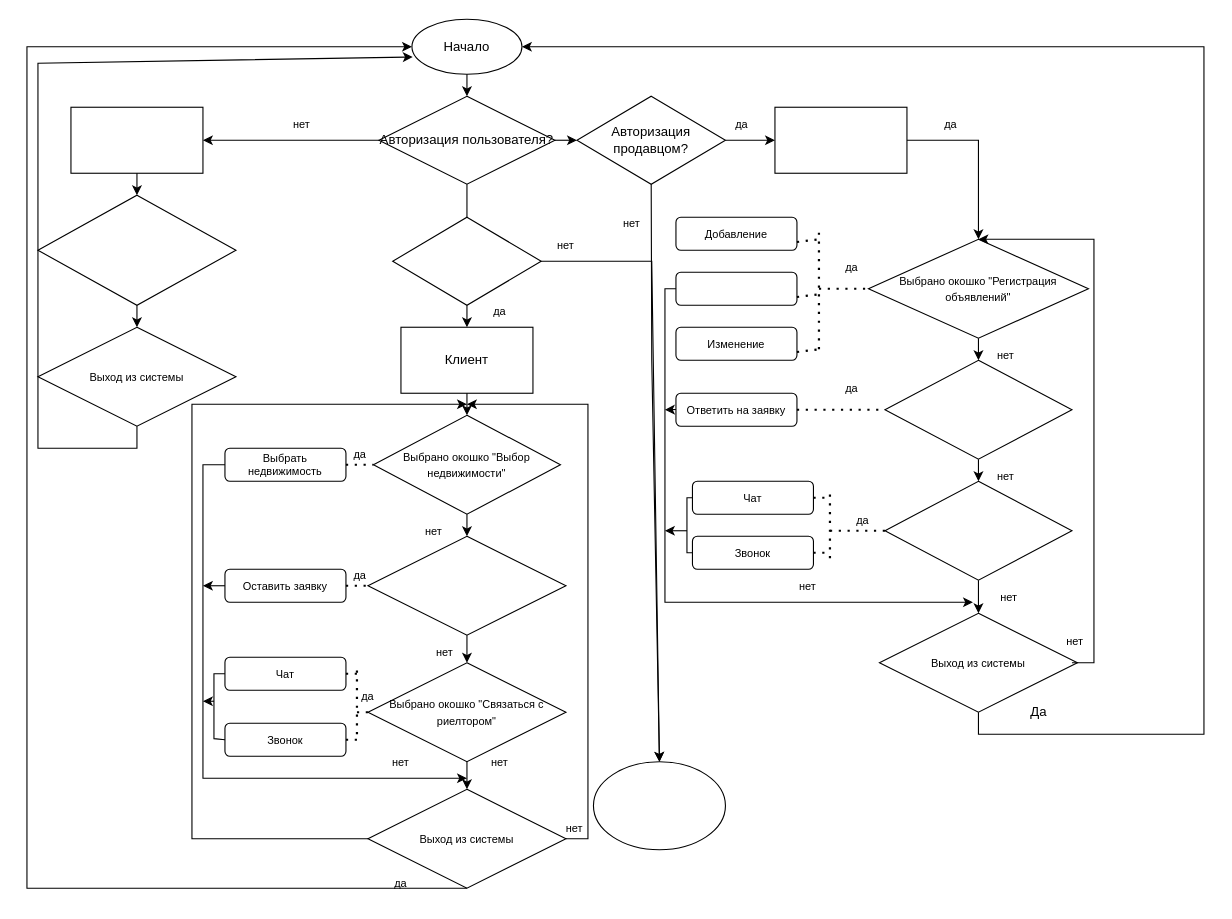
The diagram is 1232 pixels wide and 919 high, and some of its shapes have lost their labels. The centre of each missing label's shape, as x and y in pixels:
Авторизация клиентом?: point (466, 260)
Администратор: point (136, 139)
Выбрано окошко "Оставить заявку": point (466, 585)
Выбрано окошко "Ответ на заявку": point (978, 409)
Выбрано окошко "Связаться с клиентом": point (978, 530)
Конец: point (658, 805)
Проверка объявлений: point (136, 249)
Продавец: point (840, 139)
Удаление: point (736, 288)
